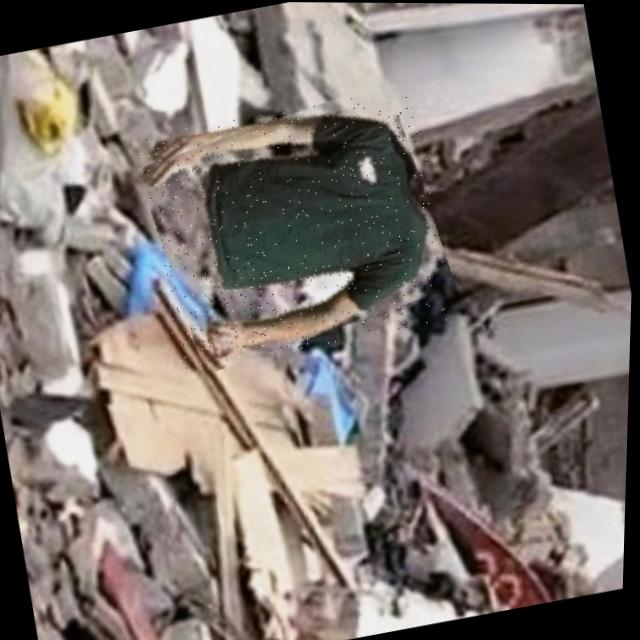Person in Rubble: (133, 84, 460, 373)
